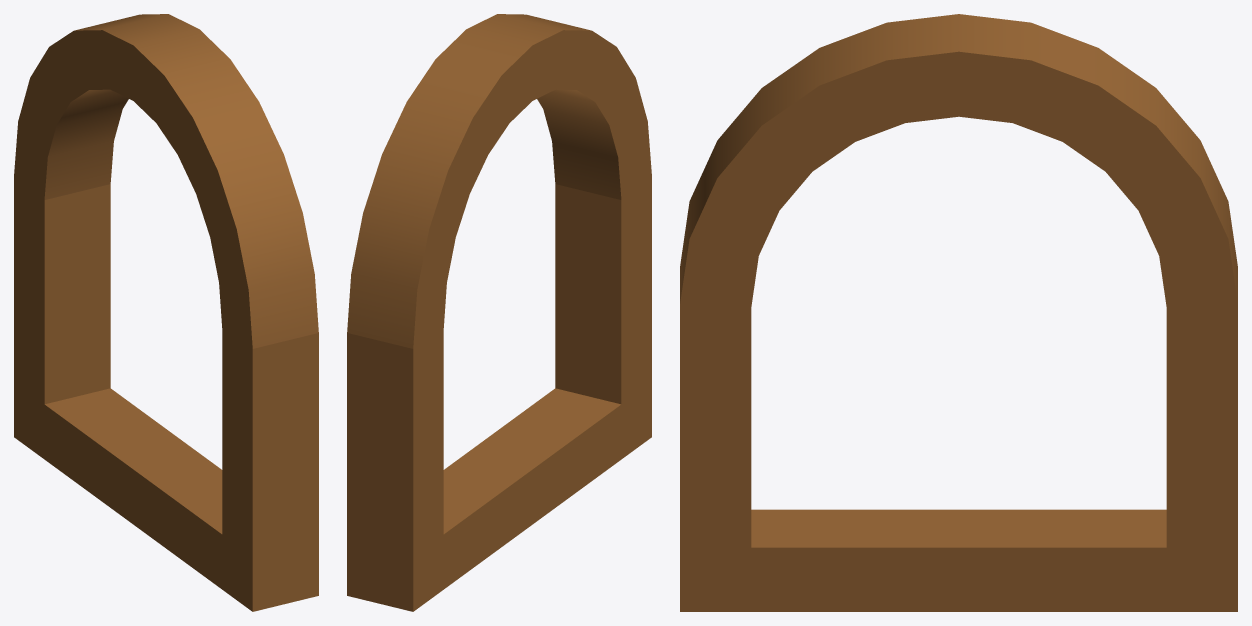
The model's file is modularBuildings_097.obj.
The picture shows the model from 3 angles, left to right: view 1: azimuth 30°, elevation 25°; view 2: azimuth 150°, elevation 25°; view 3: azimuth 270°, elevation 25°; orthographic projection. The views are drawn at different scales.
Parts seen in each view (by area): view 1: Mesh1 Group1 Model; view 2: Mesh1 Group1 Model; view 3: Mesh1 Group1 Model.
Part boxes in pixels (x1,y1,x2,y2): Mesh1 Group1 Model: (14, 14, 318, 611); Mesh1 Group1 Model: (347, 14, 651, 611); Mesh1 Group1 Model: (680, 14, 1237, 611).
Size of the model in its own units: 0.05 by 0.3462 by 0.3125.
